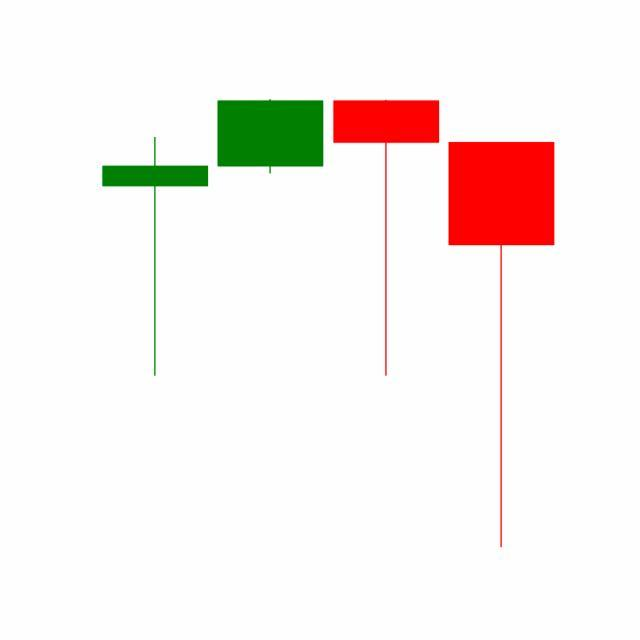Hammer: (329, 97, 445, 379)
